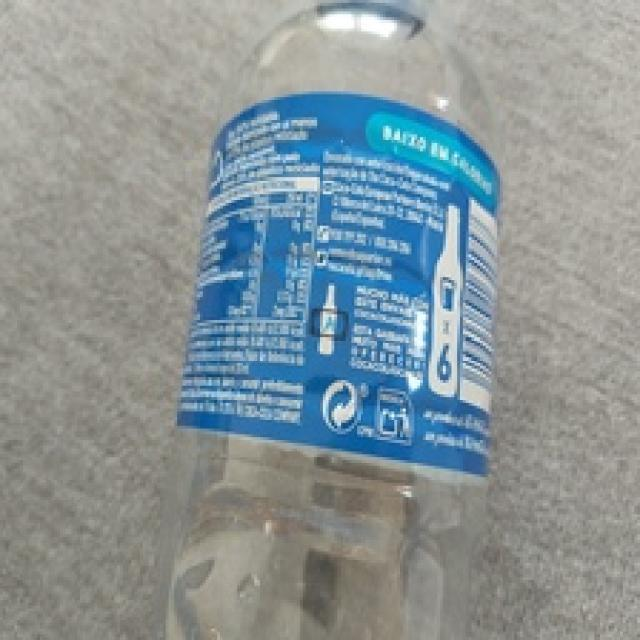Plastic: (175, 0, 508, 640)
